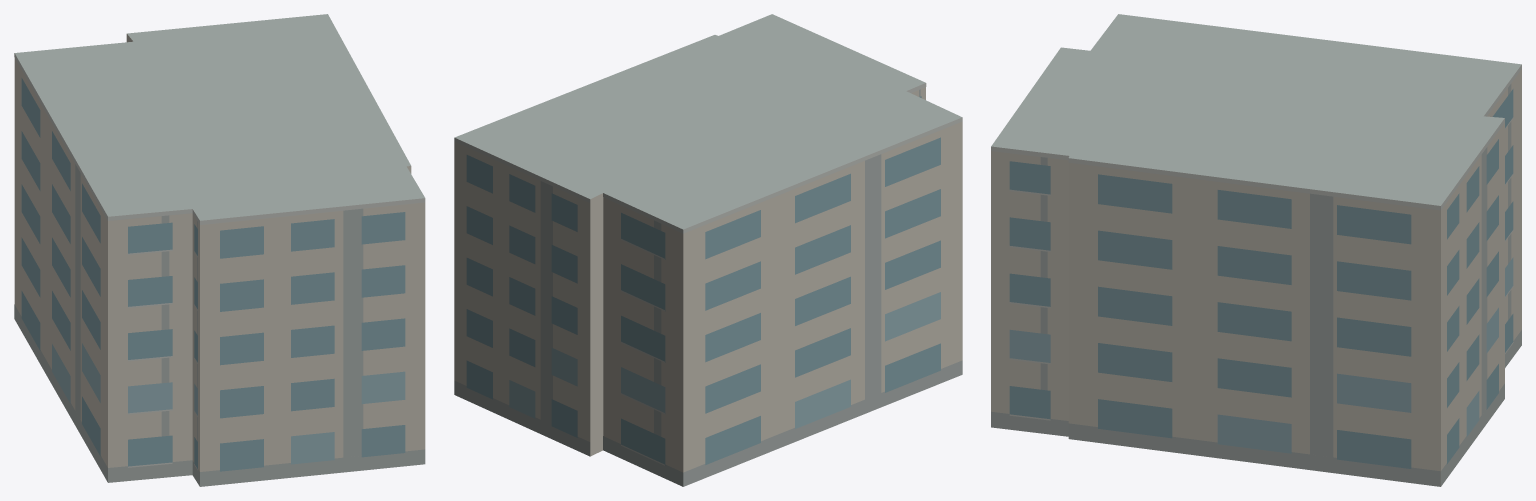
File: survey-upis-32913834.glb
The picture shows the model from 3 angles, left to right: view 1: azimuth 30°, elevation 25°; view 2: azimuth 150°, elevation 25°; view 3: azimuth 270°, elevation 25°; orthographic projection. The views are drawn at different scales.
Visible parts, largest first — view 1: survey-upis-32913834.tmp; view 2: survey-upis-32913834.tmp; view 3: survey-upis-32913834.tmp.
Part boxes in pixels (x1,y1,x2,y2): survey-upis-32913834.tmp: (14, 14, 425, 486); survey-upis-32913834.tmp: (454, 14, 962, 486); survey-upis-32913834.tmp: (991, 14, 1521, 486).
Size of the model in its own units: 22.36 by 15.25 by 26.12.
